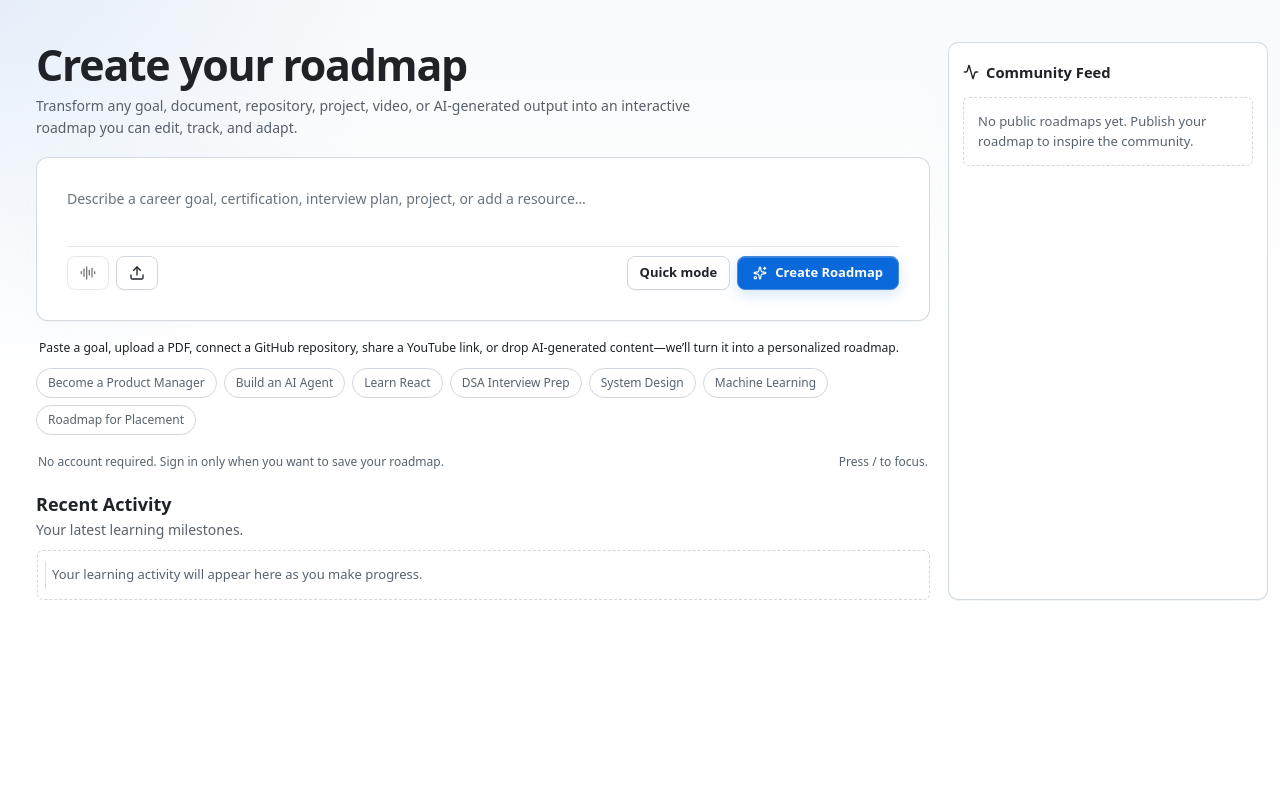
Scenario: Home roadmap generation flow › asks for the material when the goal refers to something not attached
The width and height of the screenshot is (1280, 800).
Type "Convert this into a roadmap and do tag the resources properly that are mentioned in it" into the text box named "Describe your learning goal" at (483, 212), box 67,188 -> 899,236
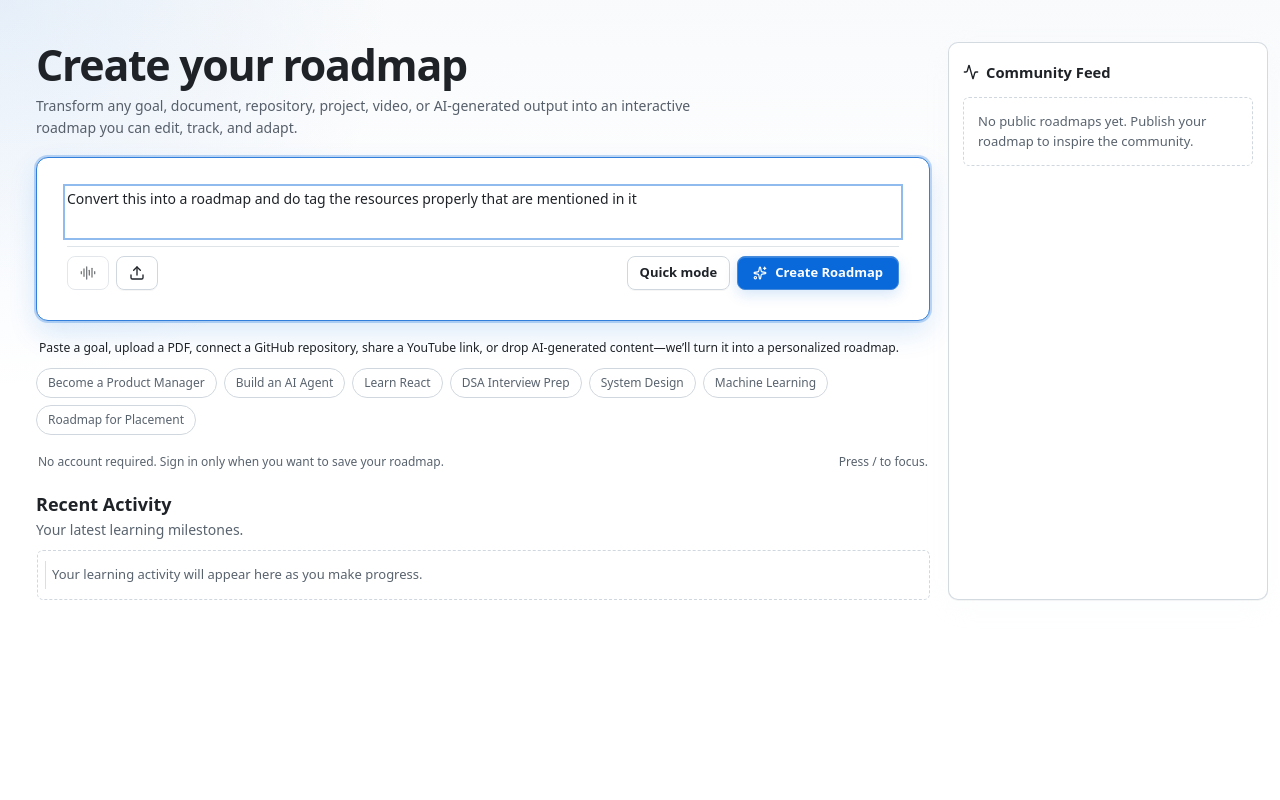
Click the button with aria-label "Generate roadmap" at (818, 273), box 737,256 -> 899,290
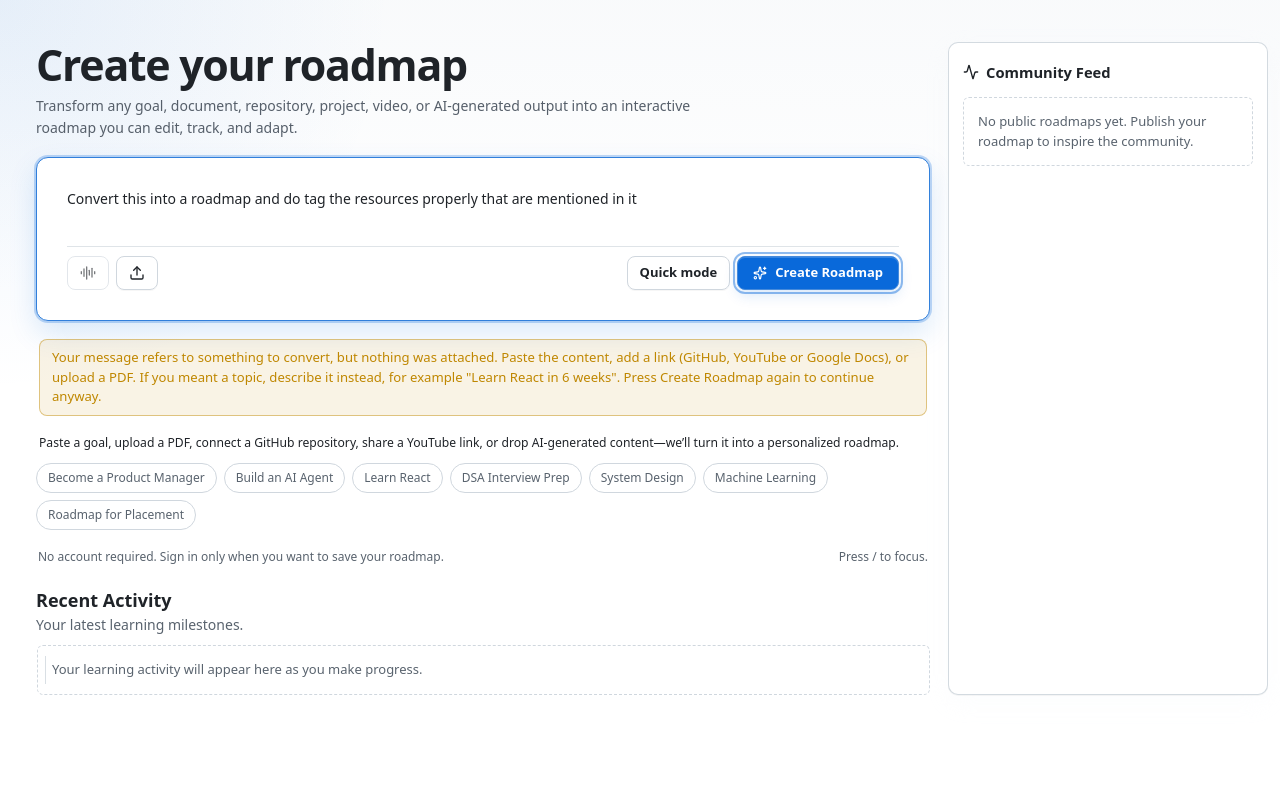
Expected: the dialog "How familiar are you with this topic?" is not shown
Expected: the message shows "nothing was attached", 52,348 -> 909,405
Click the button with aria-label "Generate roadmap" at (818, 273), box 737,256 -> 899,290
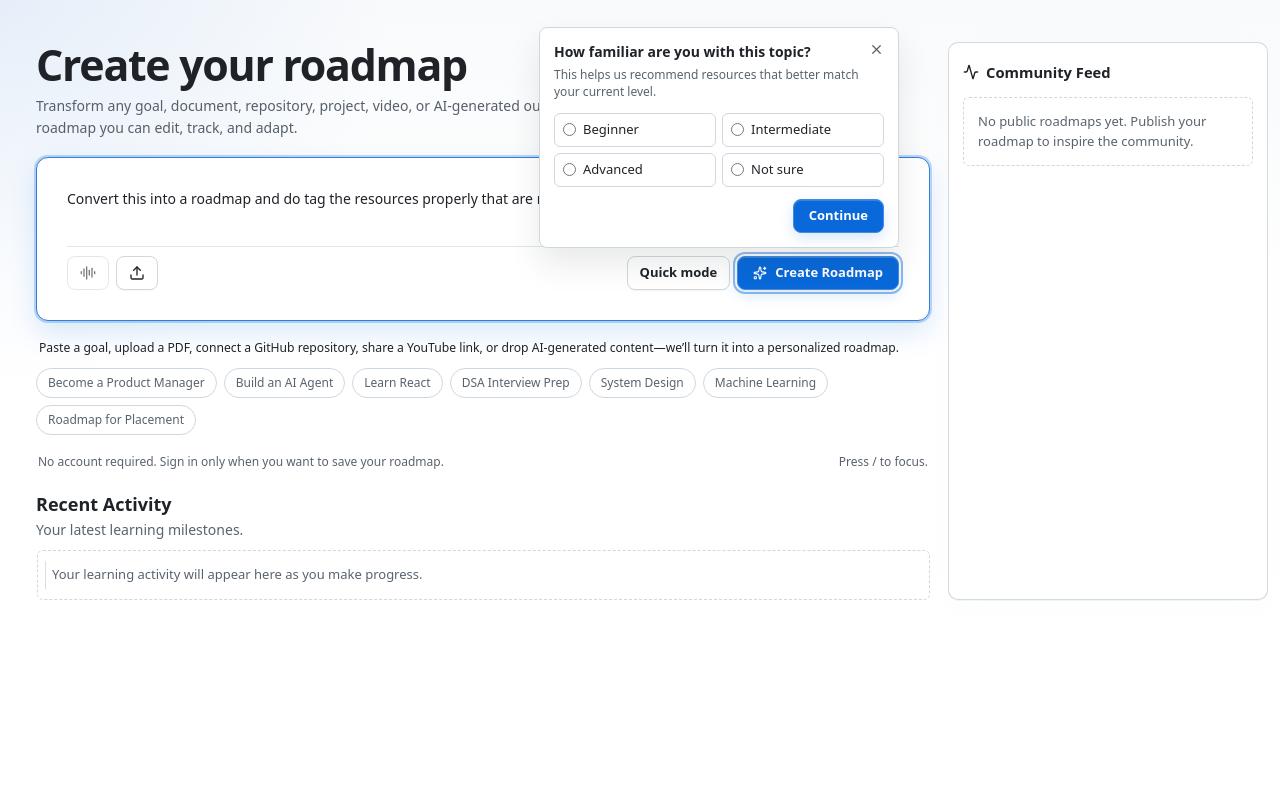
Expected: the dialog "How familiar are you with this topic?" is shown, 539,27 -> 899,248
